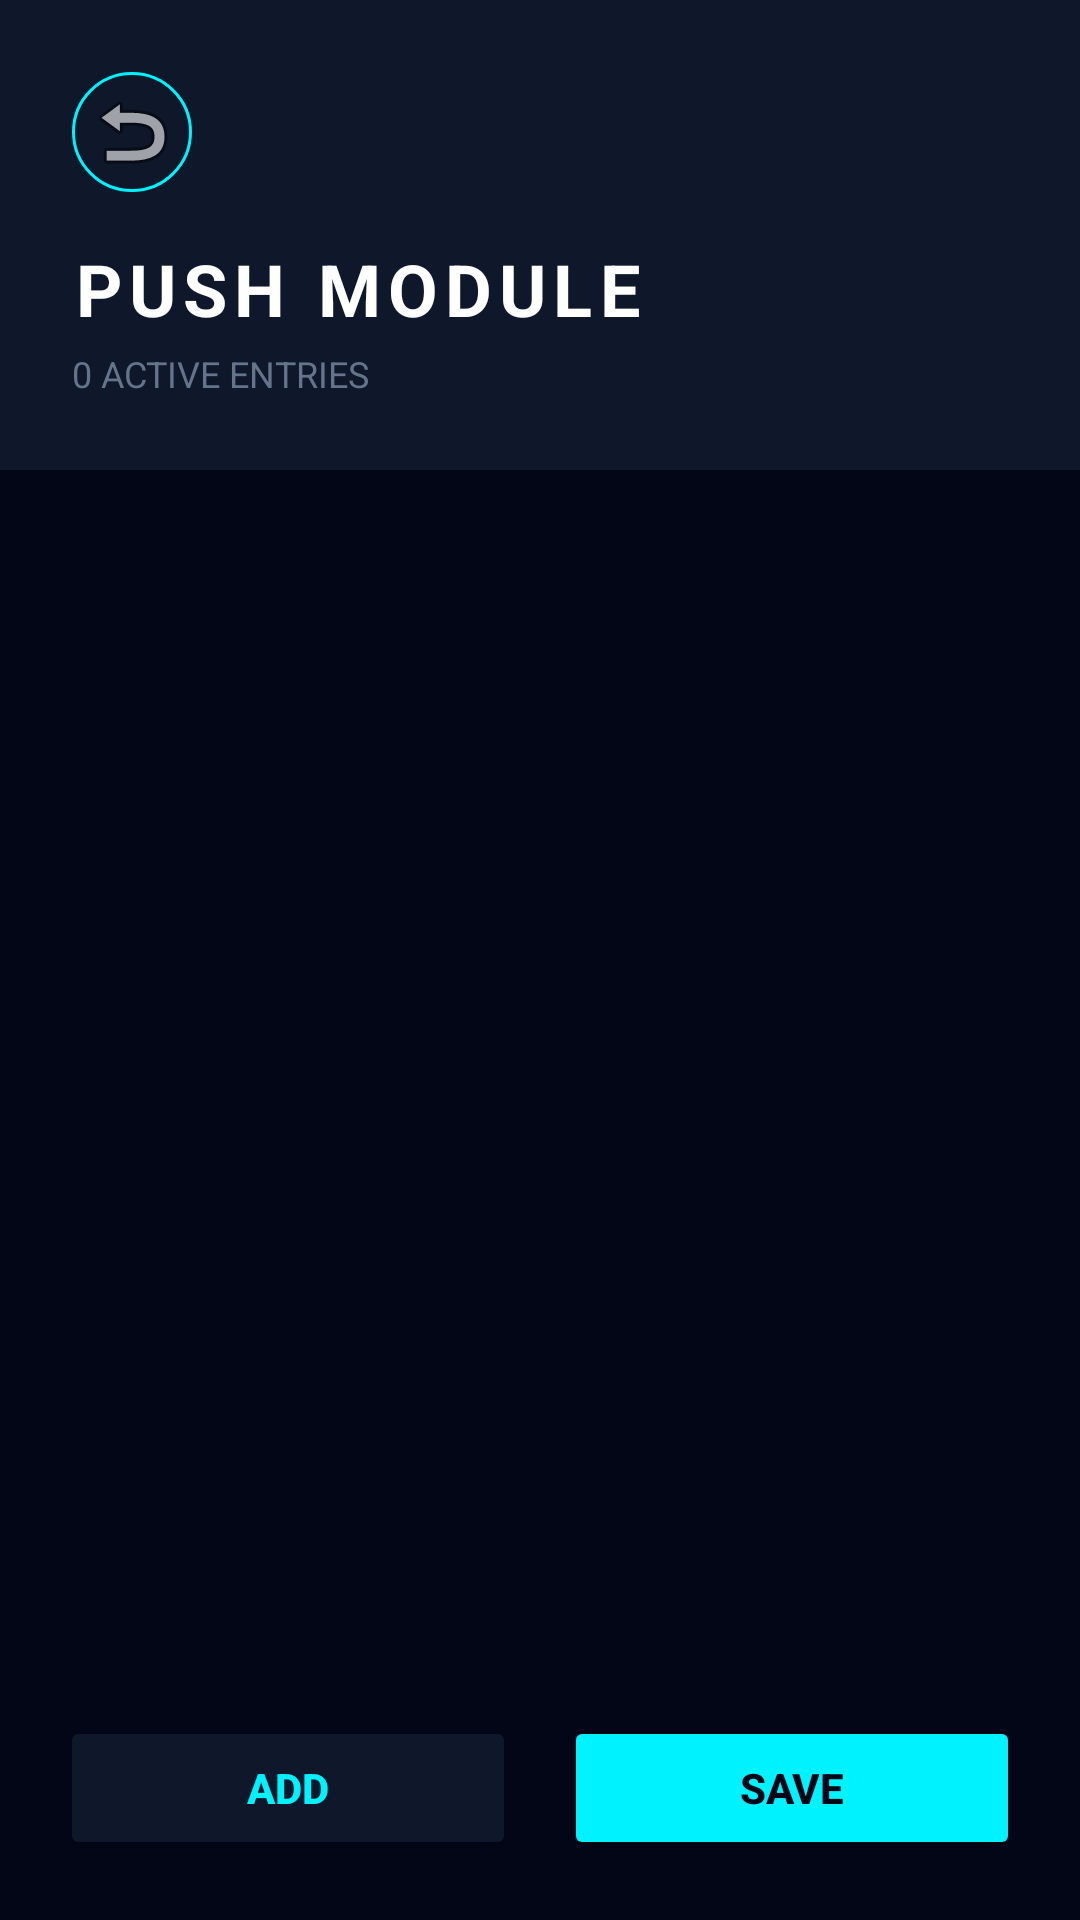

Named icons in this screenshot (1080px x 1920px) and their centers, (x,y):
Back: (132,132)
